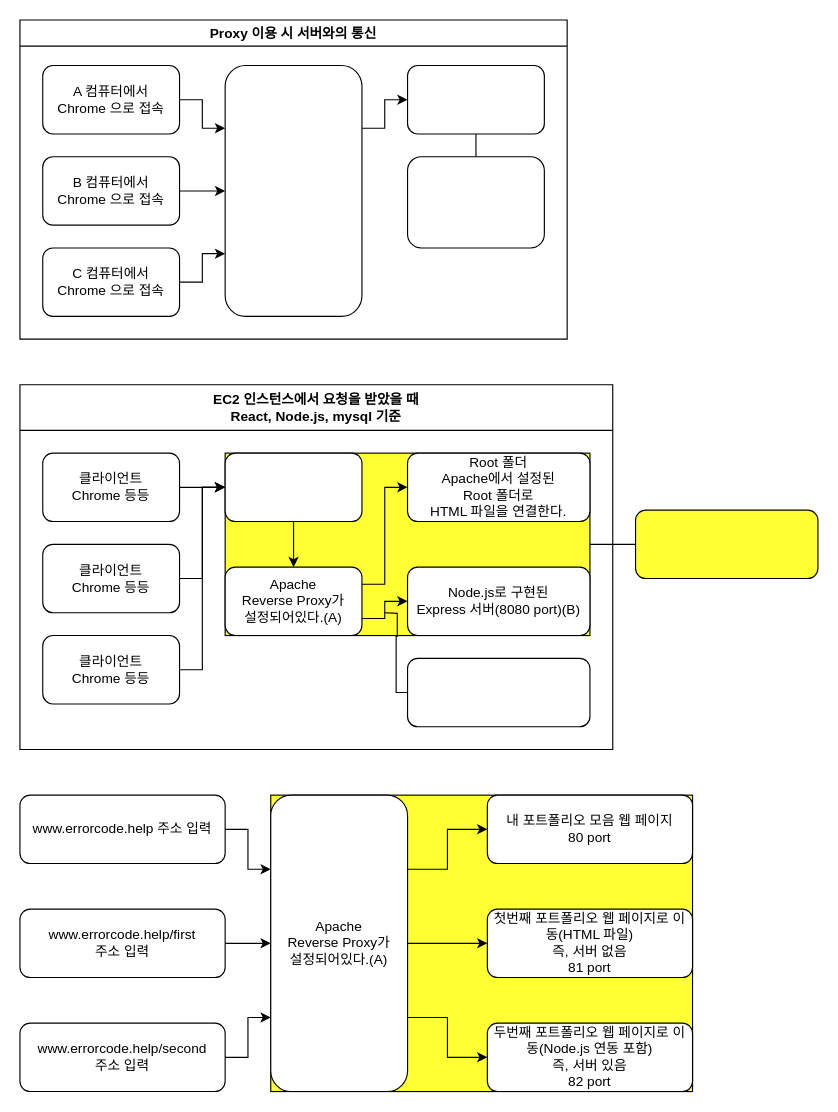
The diagram is 838 pixels wide and 1112 high, and some of its shapes have lost their labels. The centre of each missing label's shape, as x and y in pixels:
"/api 라우터로 요청 시 Node.js의 Express 서버로 요청을 보낸다." belongs at point (498, 692).
"EC2 인스턴스" belongs at point (293, 487).
"Proxy" belongs at point (293, 190).
"Server" belongs at point (475, 99).
"Server 에서는 요청을 Proxy에서 보낸 것으로 인식한다." belongs at point (475, 202).
"직각 사각형은 물리적인 서버를 뜻하기 위해서 묶음" belongs at point (726, 544).
